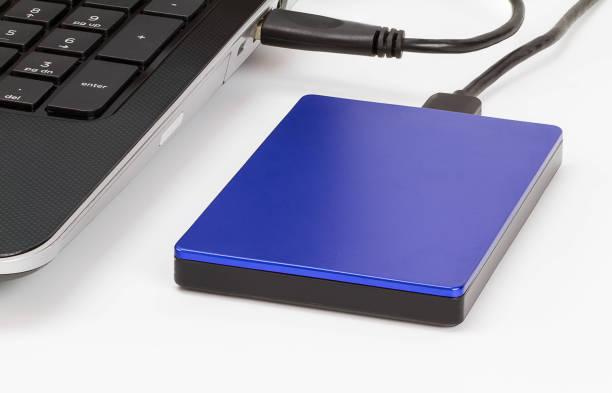HDD: (173, 95, 565, 329)
